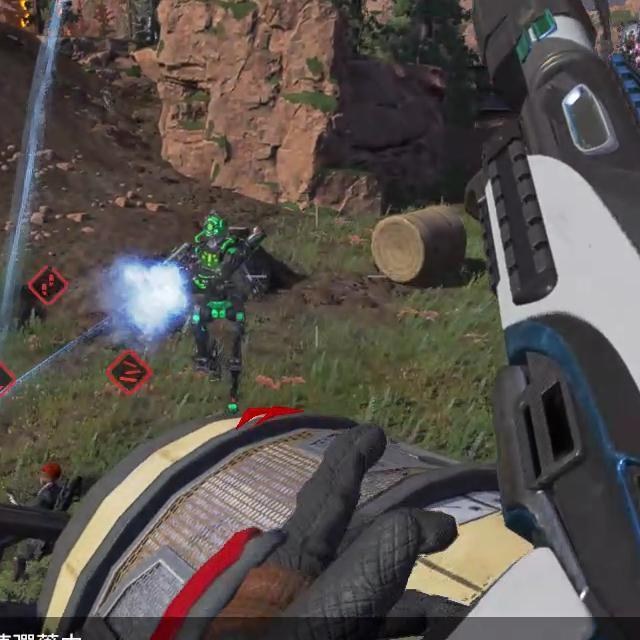avatar: (182, 209, 266, 415)
